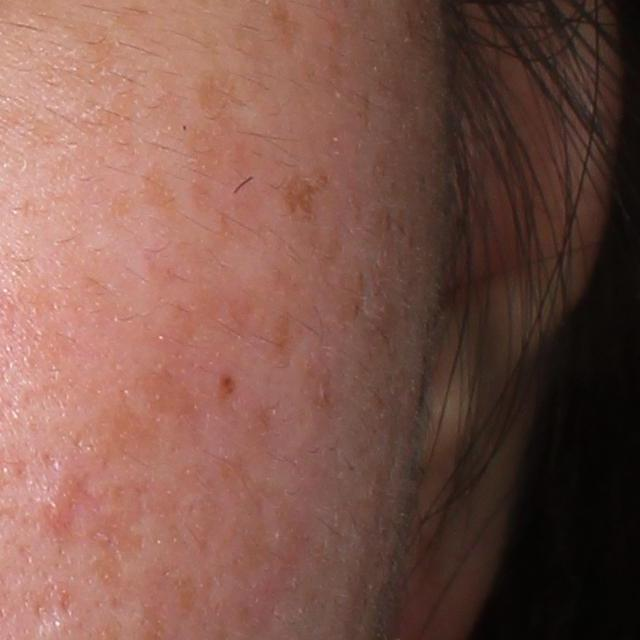melasma: (74, 341, 214, 471), (70, 83, 141, 161), (134, 155, 181, 210), (280, 164, 319, 218)
papule: (43, 495, 74, 529)
